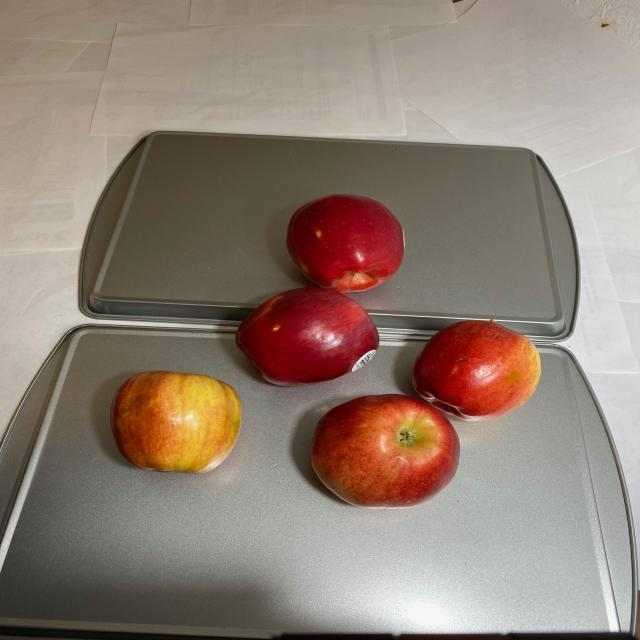Apple: (104, 193, 537, 501)
